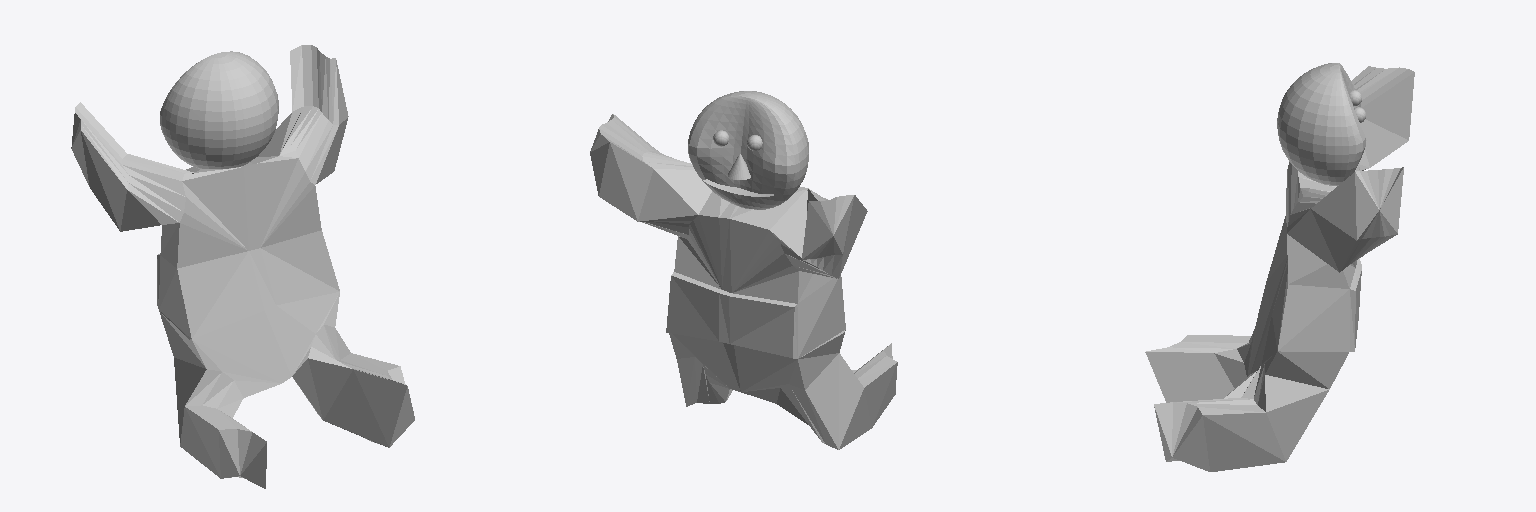
Rendered from manjump_000015.obj.
3 renders of one model, left to right at view 1: azimuth 30°, elevation 25°; view 2: azimuth 150°, elevation 25°; view 3: azimuth 270°, elevation 25°, orthographic.
Parts seen in each view (by area): view 1: Cube; view 2: Cube; view 3: Cube.
Part boxes in pixels (bbox=[...]): Cube: bbox=[71, 45, 414, 488]; Cube: bbox=[590, 91, 897, 449]; Cube: bbox=[1145, 63, 1414, 471].
Bounding box in the file's own units: 80.63 × 108 × 71.83.